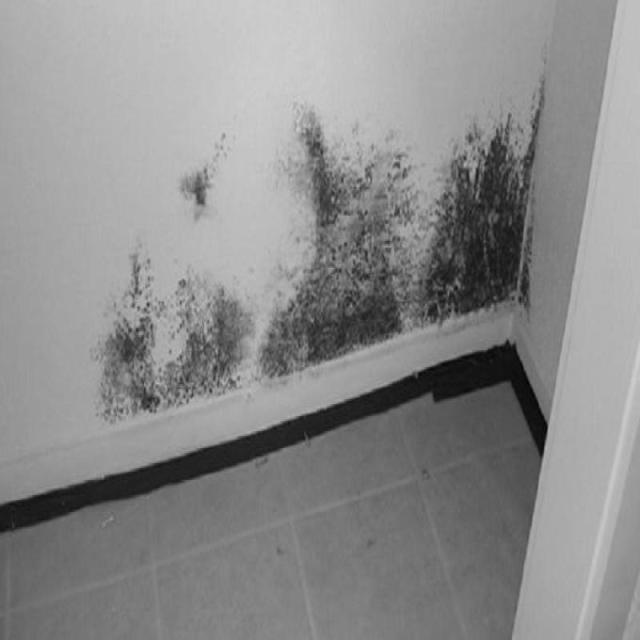stain marks: (39, 32, 581, 448)
